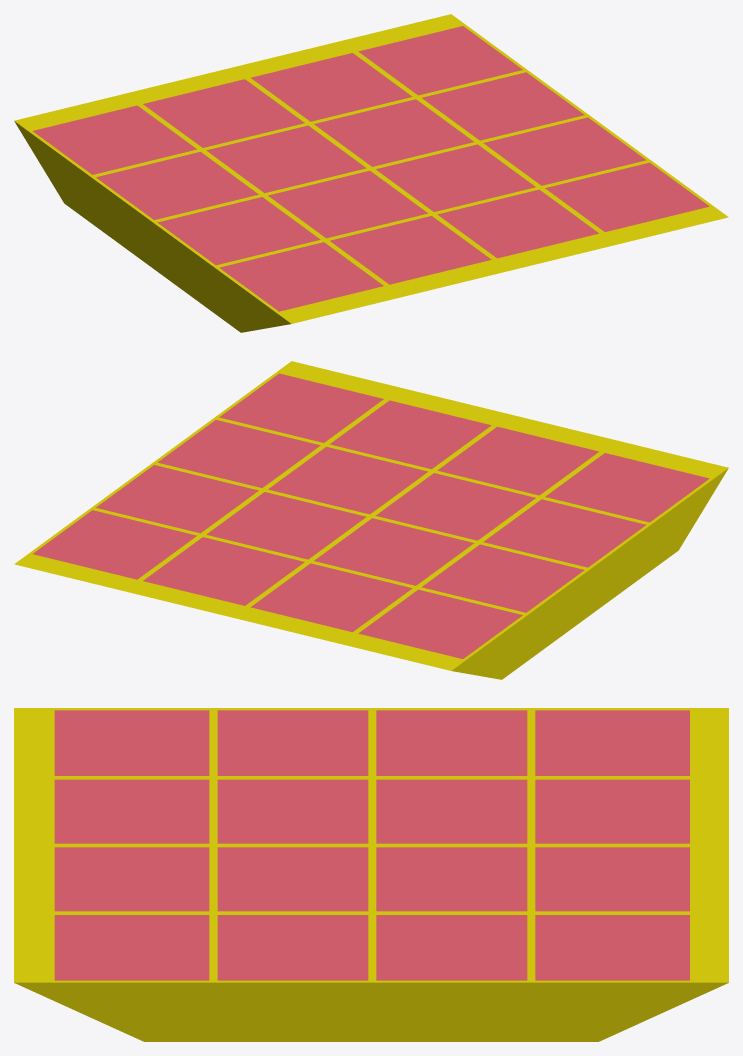
The model's file is ground-tutorial.fbx.
3 renders of one model, top to bottom at view 1: azimuth 30°, elevation 25°; view 2: azimuth 150°, elevation 25°; view 3: azimuth 270°, elevation 25°, orthographic. The views are drawn at different scales.
Parts seen in each view (by area): view 1: ground-tutorial; view 2: ground-tutorial; view 3: ground-tutorial.
Boxes of the visible parts, box(x1,y1,x2,y2) form: ground-tutorial: box(14, 14, 728, 332); ground-tutorial: box(14, 361, 728, 679); ground-tutorial: box(14, 708, 728, 1041).
Bounding box in the file's own units: 4 × 0.4 × 4.4.
